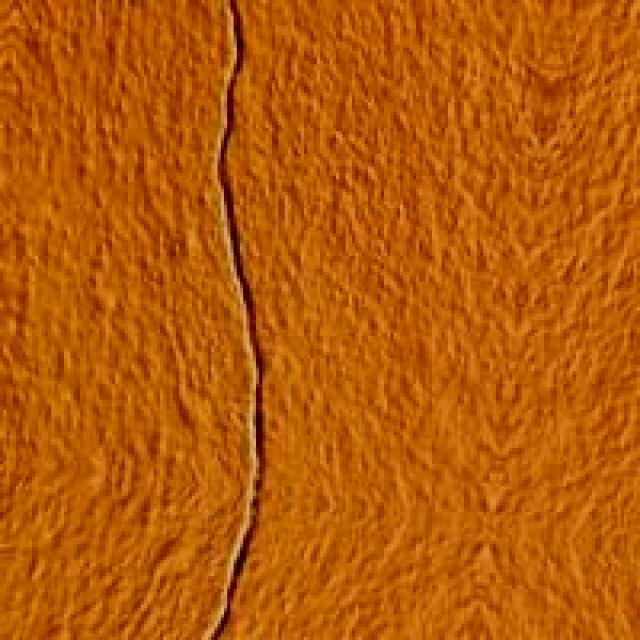crack: (162, 0, 302, 640)
